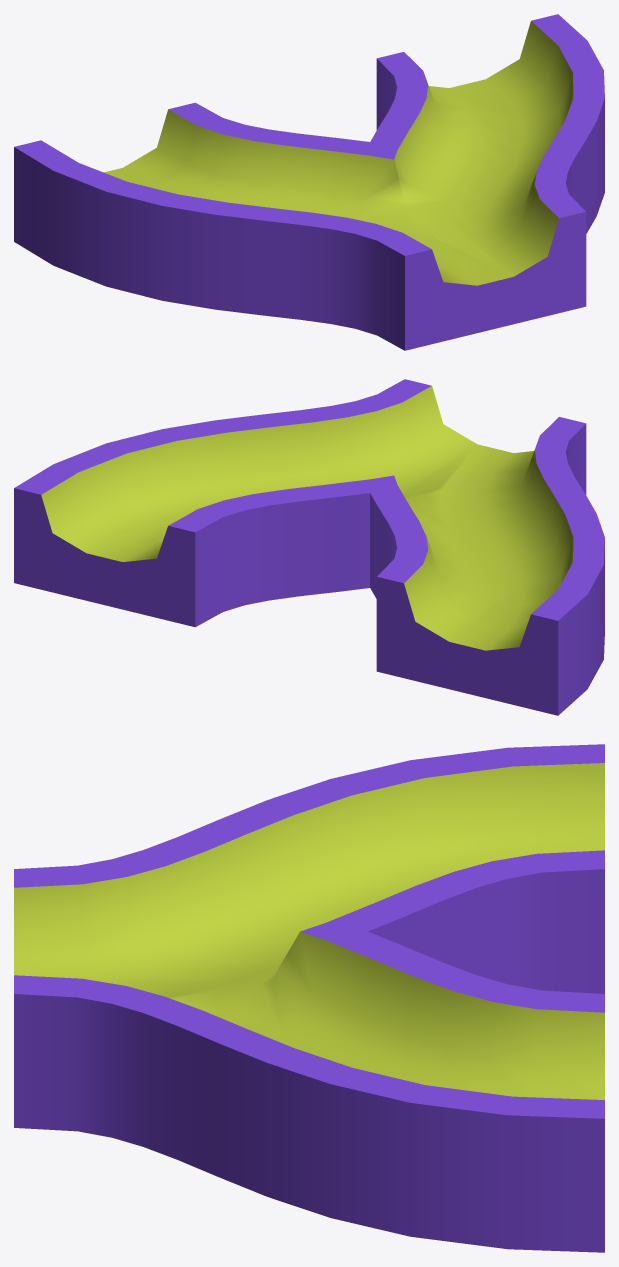
The model's file is split_double-col.dae.
The picture shows the model from 3 angles, top to bottom: view 1: azimuth 30°, elevation 25°; view 2: azimuth 150°, elevation 25°; view 3: azimuth 270°, elevation 25°; orthographic projection. The views are drawn at different scales.
Parts seen in each view (by area): view 1: split_double-col; view 2: split_double-col; view 3: split_double-col.
Part boxes in pixels (left/top/right/bottom): split_double-col: left=14, top=14, right=604, bottom=350; split_double-col: left=14, top=379, right=604, bottom=715; split_double-col: left=14, top=744, right=604, bottom=1252.
Bounding box in the file's own units: 3 × 2 × 0.5.
